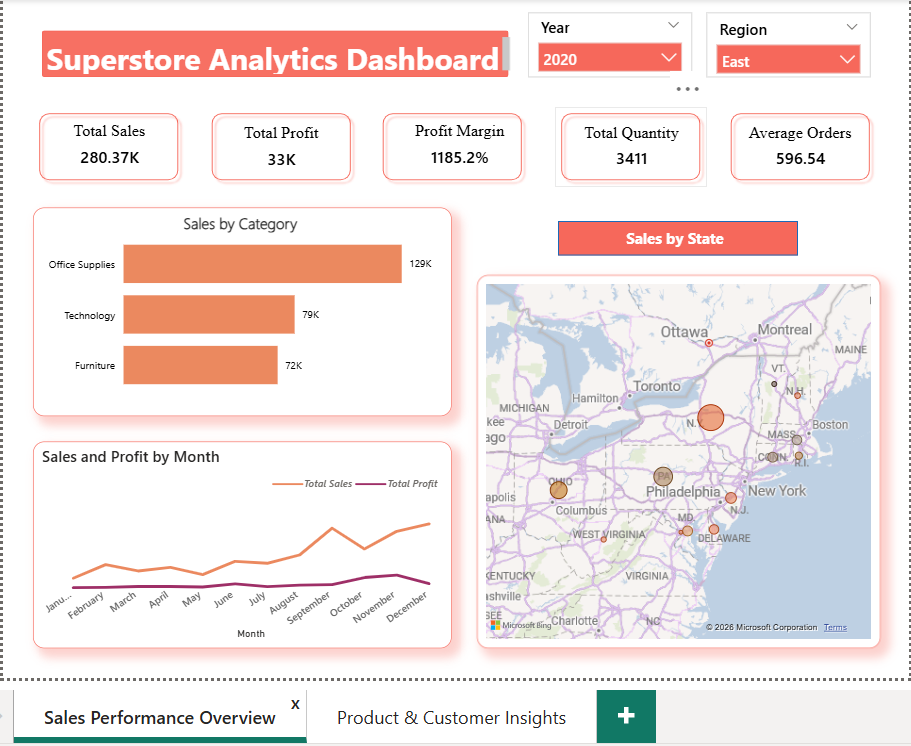

This screenshot's page, from the dashboard's own definition file:
{"tool":"powerbi","page":{"name":"Sales Performance Overview","canvas":[960,720],"ordinal":0},"visuals":[{"type":"shape","box":[588.5,235.4,254.5,36.6],"z":0},{"type":"card","title":"Total Sales","fields":{"Values":["SuperStore_Sales.Total_Sales"]},"box":[55.7,130.4,114.5,50.9],"z":2000},{"type":"slicer","fields":{"Values":["SuperStore_Sales.Region"]},"box":[746,14.3,174,68.4],"z":3000},{"type":"card","title":"Profit Margin","fields":{"Values":["SuperStore_Sales.Profit_Margin"]},"box":[426.3,130.4,116.1,50.9],"z":4000},{"type":"card","title":"Total Profit","fields":{"Values":["SuperStore_Sales.Total_Profit"]},"box":[243.4,132,103.4,49.3],"z":5000},{"type":"card","title":"Total Quantity","fields":{"Values":["SuperStore_Sales.Total_Quantity"]},"box":[609.2,132,114.5,50.9],"z":6000},{"type":"clusteredBarChart","title":"Sales by Category","fields":{"Category":["SuperStore_Sales.Category"],"Y":["SuperStore_Sales.Total_Sales"]},"box":[31.8,221.1,443.8,221.1],"z":7000},{"type":"slicer","fields":{"Values":["SuperStore_Sales.Order Date.Variation.Date Hierarchy.Year","SuperStore_Sales.Order Date.Variation.Date Hierarchy.Quarter","SuperStore_Sales.Order Date.Variation.Date Hierarchy.Month","SuperStore_Sales.Order Date.Variation.Date Hierarchy.Day"]},"box":[556.7,14.3,174,68.4],"z":8000},{"type":"textbox","box":[160.7,221.1,178.1,31.8],"z":9000},{"type":"lineChart","title":"Sales and Profit by Month","fields":{"Y":["SuperStore_Sales.Total_Sales","SuperStore_Sales.Total_Profit"],"Category":["SuperStore_Sales.Order Date.Variation.Date Hierarchy.Month"]},"box":[31.8,469.2,443.8,219.5],"z":10000},{"type":"shape","box":[41.4,33.4,494.7,49.3],"z":11000},{"type":"textbox","box":[38.2,35,504.2,49.3],"z":12000},{"type":"shape","box":[585.3,114.5,160.7,84.3],"z":13000},{"type":"shape","box":[396.1,114.5,160.7,84.3],"z":14000},{"type":"shape","box":[214.7,114.5,160.7,84.3],"z":15000},{"type":"shape","box":[765.1,114.5,160.7,84.3],"z":16000},{"type":"map","title":"Sales by Category","fields":{"Category":["SuperStore_Sales.State"],"Size":["SuperStore_Sales.Total_Sales"]},"box":[502.6,292.7,427.9,396.1],"z":17000},{"type":"textbox","box":[641,237,143.2,35],"z":18000},{"type":"card","title":"Average Orders","fields":{"Values":["SuperStore_Sales.Average Order Value"]},"box":[776.2,132,138.4,50.9],"z":19000},{"type":"shape","box":[31.8,114.5,160.7,84.3],"z":19001}]}

Visuals, with their boxes on the page's 960x720 design canvas (x1, y1, x2, y2). These are canvas units, not pixel positions in the 911x746 screenshot, which may show the page scaled, cropped or inside an application window:
shape: 588, 235, 843, 272
"Total Sales" card: 56, 130, 170, 181
slicer - SuperStore_Sales.Region: 746, 14, 920, 83
"Profit Margin" card: 426, 130, 542, 181
"Total Profit" card: 243, 132, 347, 181
"Total Quantity" card: 609, 132, 724, 183
"Sales by Category" clusteredBarChart: 32, 221, 476, 442
slicer - SuperStore_Sales.Order Date.Variation.Date Hierarchy.Year x SuperStore_Sales.Order Date.Variation.Date Hierarchy.Quarter: 557, 14, 731, 83
textbox: 161, 221, 339, 253
"Sales and Profit by Month" lineChart: 32, 469, 476, 689
shape: 41, 33, 536, 83
textbox: 38, 35, 542, 84
shape: 585, 114, 746, 199
shape: 396, 114, 557, 199
shape: 215, 114, 375, 199
shape: 765, 114, 926, 199
"Sales by Category" map: 503, 293, 930, 689
textbox: 641, 237, 784, 272
"Average Orders" card: 776, 132, 915, 183
shape: 32, 114, 192, 199
